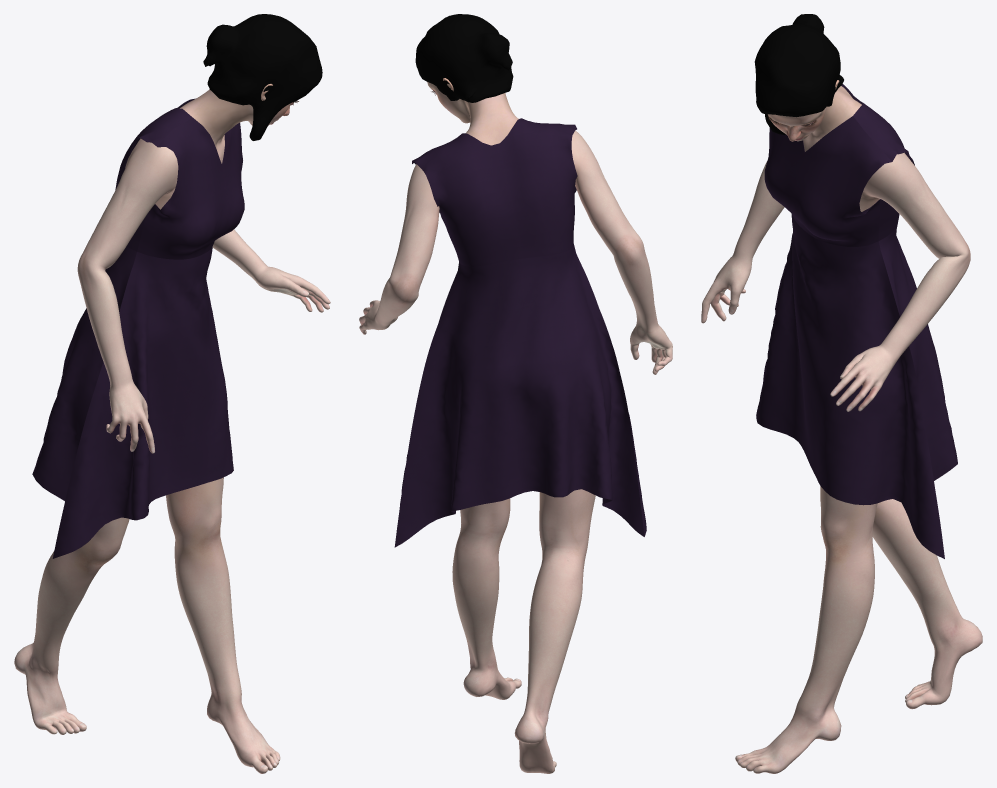
The model's file is Dramatic.obj.
3 views of the same model, side by side, from view 1: azimuth 30°, elevation 25°; view 2: azimuth 150°, elevation 25°; view 3: azimuth 270°, elevation 25° (orthographic). The views are drawn at different scales.
Bounding box in the file's own units: 716 × 1739 × 590.
